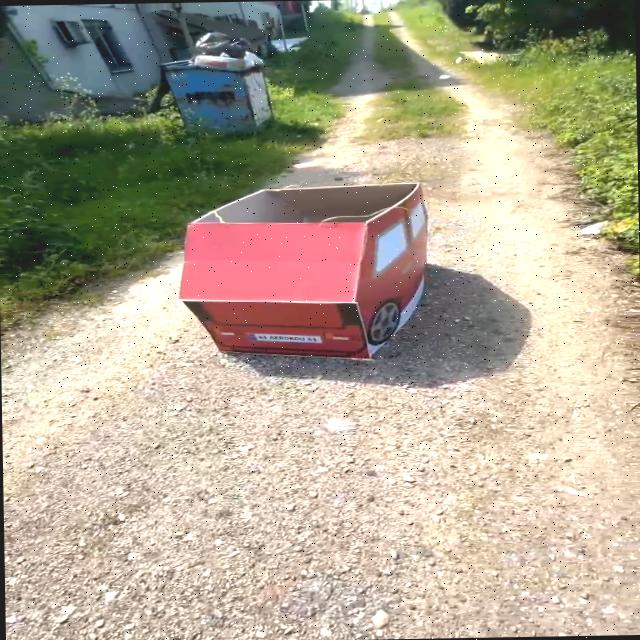red_car: (130, 165, 452, 392)
